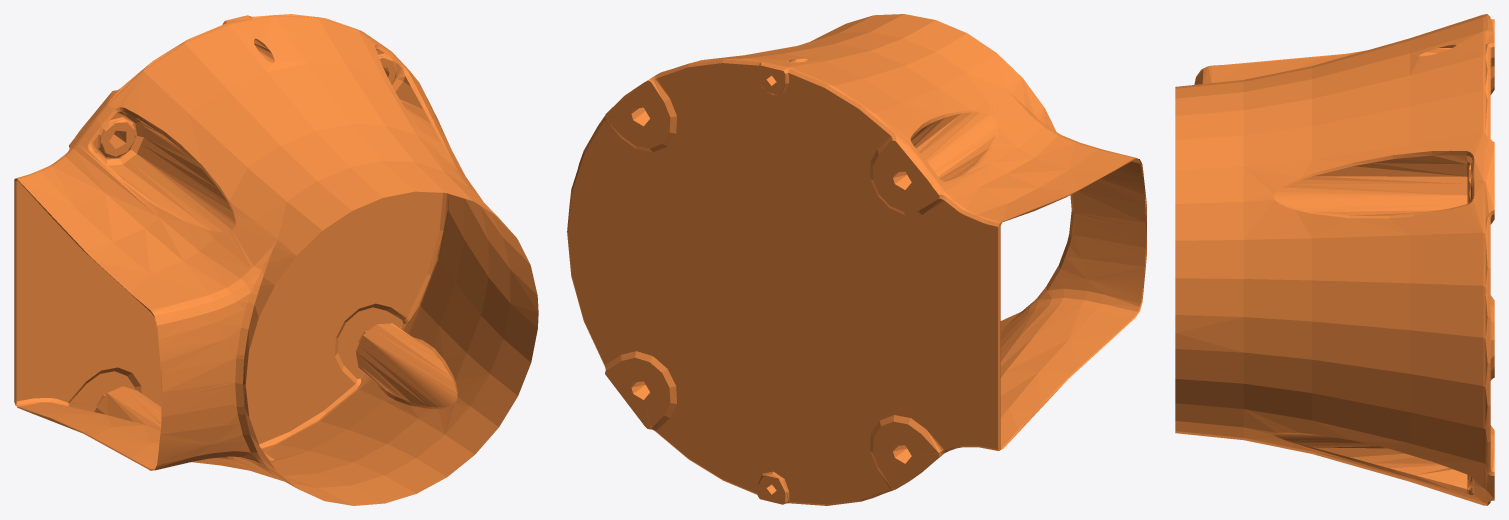
File: kuka_URDF_link_vis_2.dae
3 renders of one model, left to right at view 1: azimuth 30°, elevation 25°; view 2: azimuth 150°, elevation 25°; view 3: azimuth 270°, elevation 25°, orthographic. The views are drawn at different scales.
Visible parts, largest first — view 1: Node_0000020FCC590AE0; view 2: Node_0000020FCC590AE0; view 3: Node_0000020FCC590AE0.
Boxes of the visible parts, box(x1,y1,x2,y2) form: Node_0000020FCC590AE0: box(14, 14, 538, 505); Node_0000020FCC590AE0: box(567, 14, 1146, 505); Node_0000020FCC590AE0: box(1175, 14, 1494, 505).
Bounding box in the file's own units: 0.2529 × 0.2425 × 0.1575.
